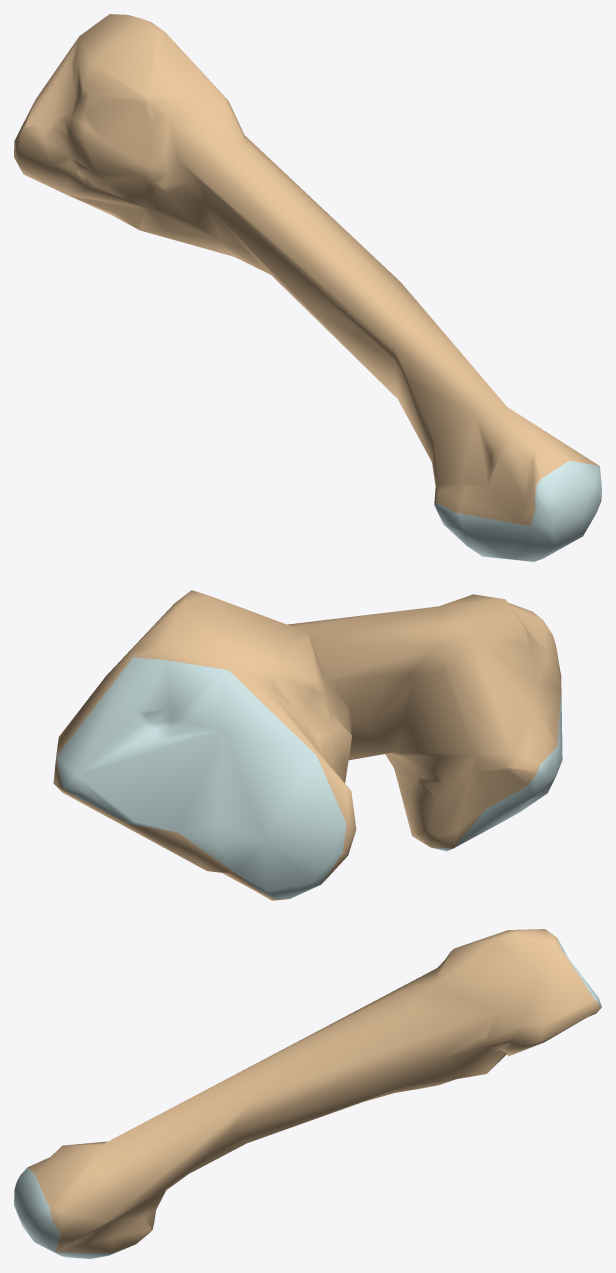
Rendered from 4th_metatarsal_bone.l_Generated_Mesh_From_X3D.925.glb.
3 views of the same model, one above another, from view 1: azimuth 30°, elevation 25°; view 2: azimuth 150°, elevation 25°; view 3: azimuth 270°, elevation 25° (orthographic). The views are drawn at different scales.
Parts seen in each view (by area): view 1: 4th_metatarsal_bone.l_Generated_Mesh_From_X3D.925; view 2: 4th_metatarsal_bone.l_Generated_Mesh_From_X3D.925; view 3: 4th_metatarsal_bone.l_Generated_Mesh_From_X3D.925.
Part boxes in pixels (x1,y1,x2,y2): 4th_metatarsal_bone.l_Generated_Mesh_From_X3D.925: (14, 14, 601, 561); 4th_metatarsal_bone.l_Generated_Mesh_From_X3D.925: (53, 590, 562, 900); 4th_metatarsal_bone.l_Generated_Mesh_From_X3D.925: (14, 929, 601, 1258).
Bounding box in the file's own units: 0.0299 × 0.037 × 0.0685.
